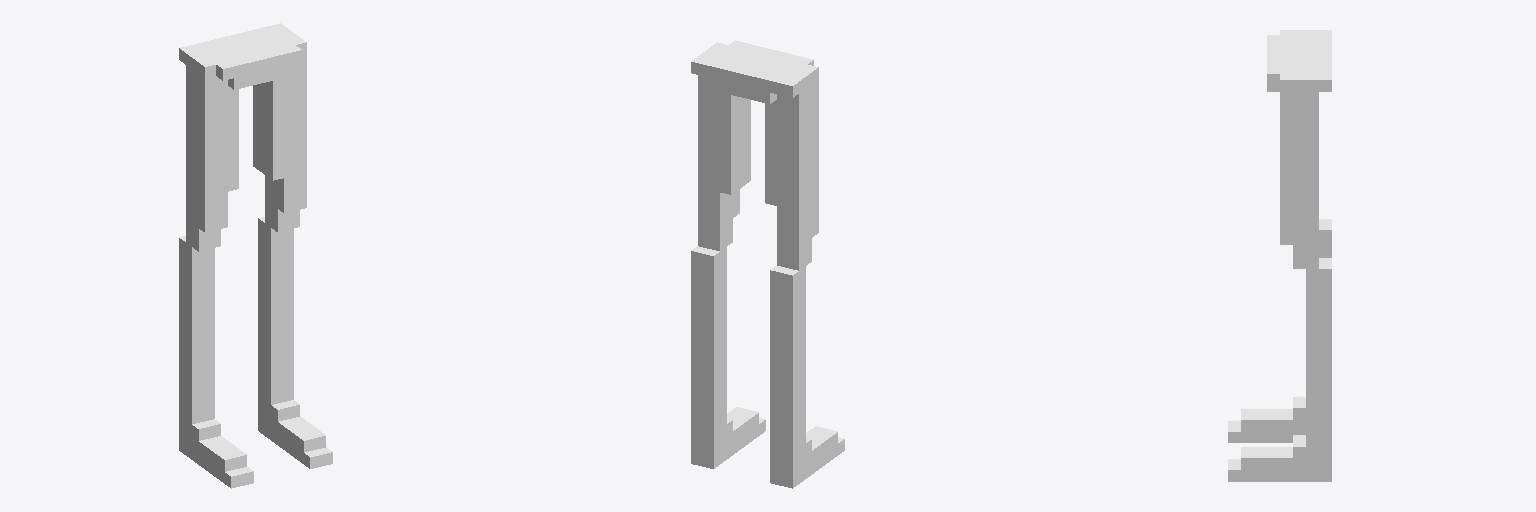
Rendered from Zed_1-3.obj.
3 views of the same model, side by side, from view 1: azimuth 30°, elevation 25°; view 2: azimuth 150°, elevation 25°; view 3: azimuth 270°, elevation 25° (orthographic).
Parts seen in each view (by area): view 1: object 1; view 2: object 1; view 3: object 1.
Boxes of the visible parts, x1=… form: object 1: x1=179, y1=23, x2=332, y2=488; object 1: x1=691, y1=40, x2=844, y2=488; object 1: x1=1228, y1=30, x2=1331, y2=481.
Size of the model in its own units: 0.9 by 3.4 by 0.8.